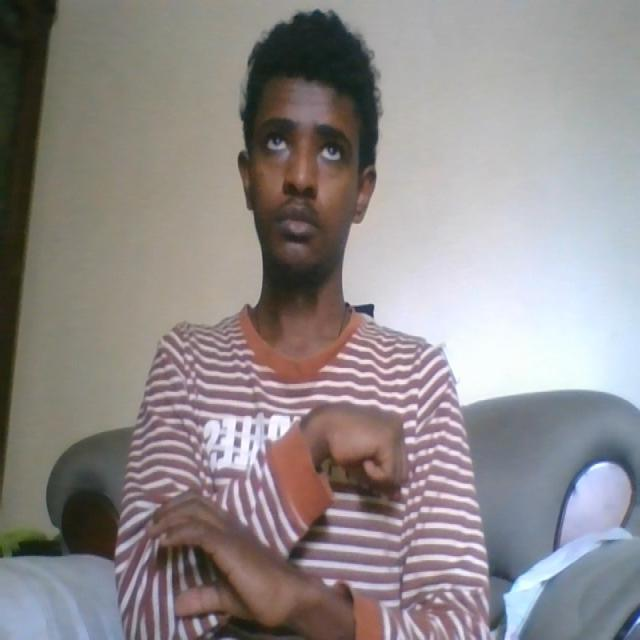hager: (138, 398, 413, 638)
